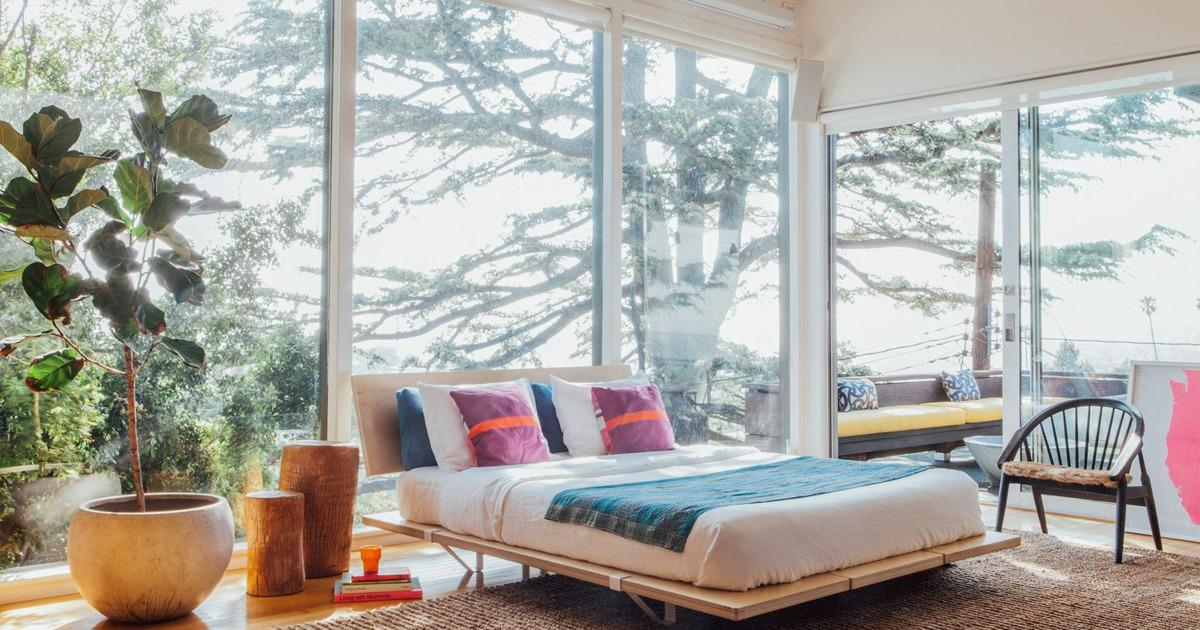bed: (343, 356, 1043, 623)
